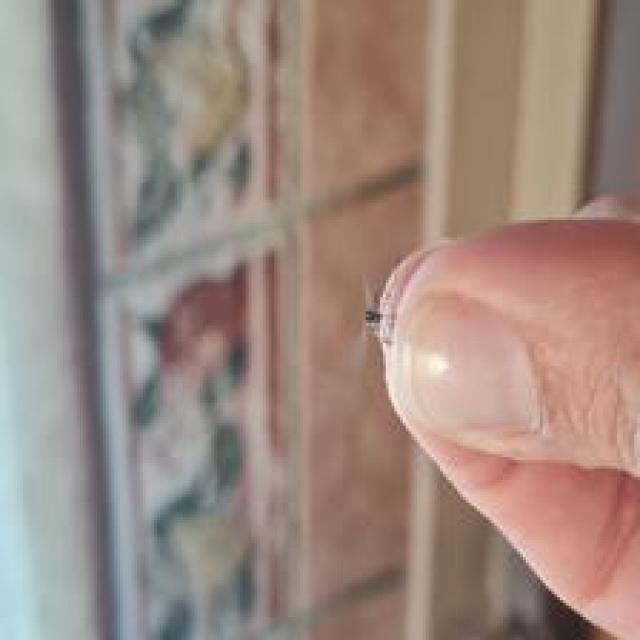Aedes albopictus: (114, 0, 254, 251)
